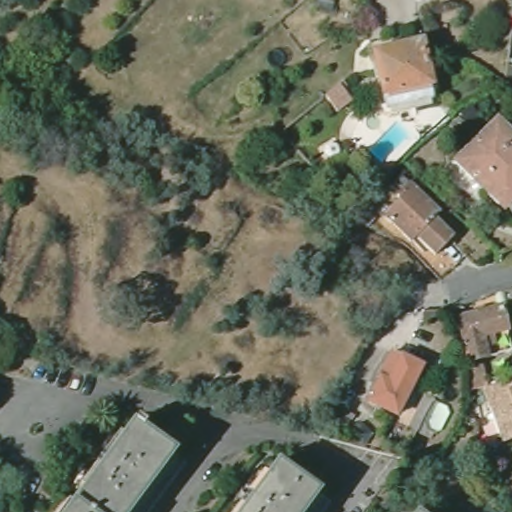pool: (367, 121, 410, 166)
